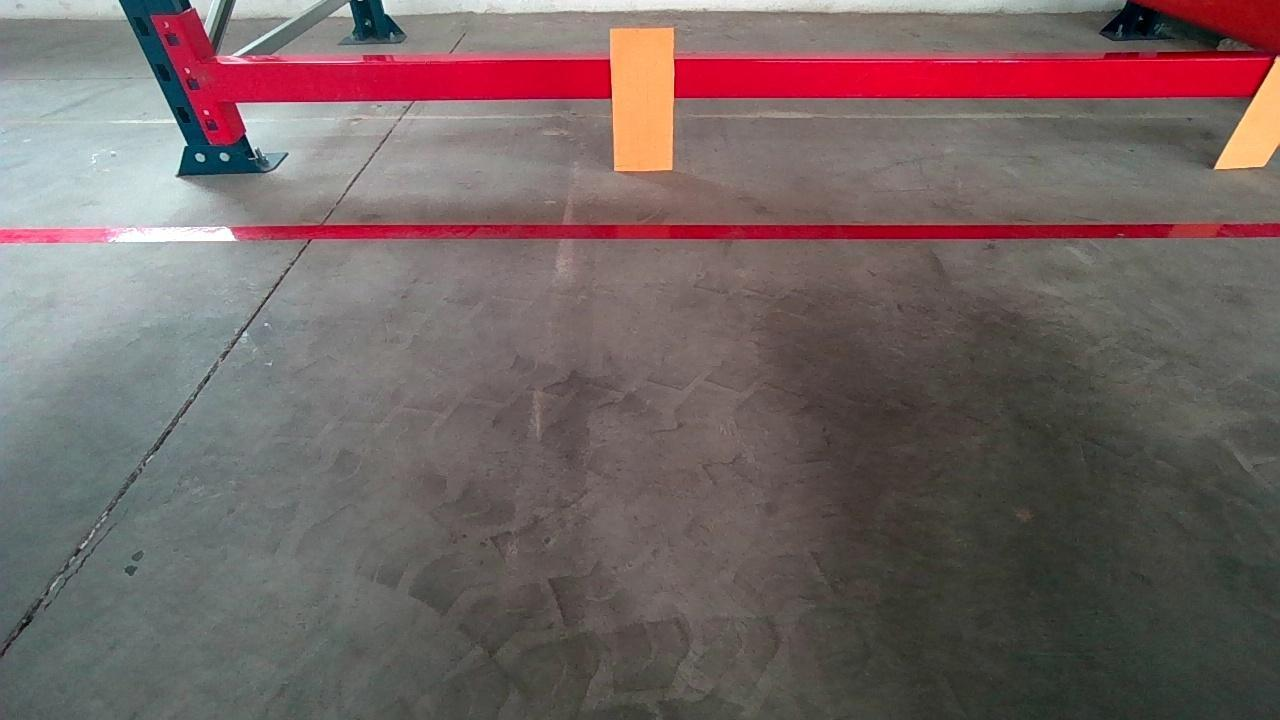h_rack: (216, 60, 1280, 99)
orange_strip: (611, 27, 676, 171), (1219, 55, 1280, 167)
